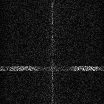wifi: (1, 66, 104, 70)
